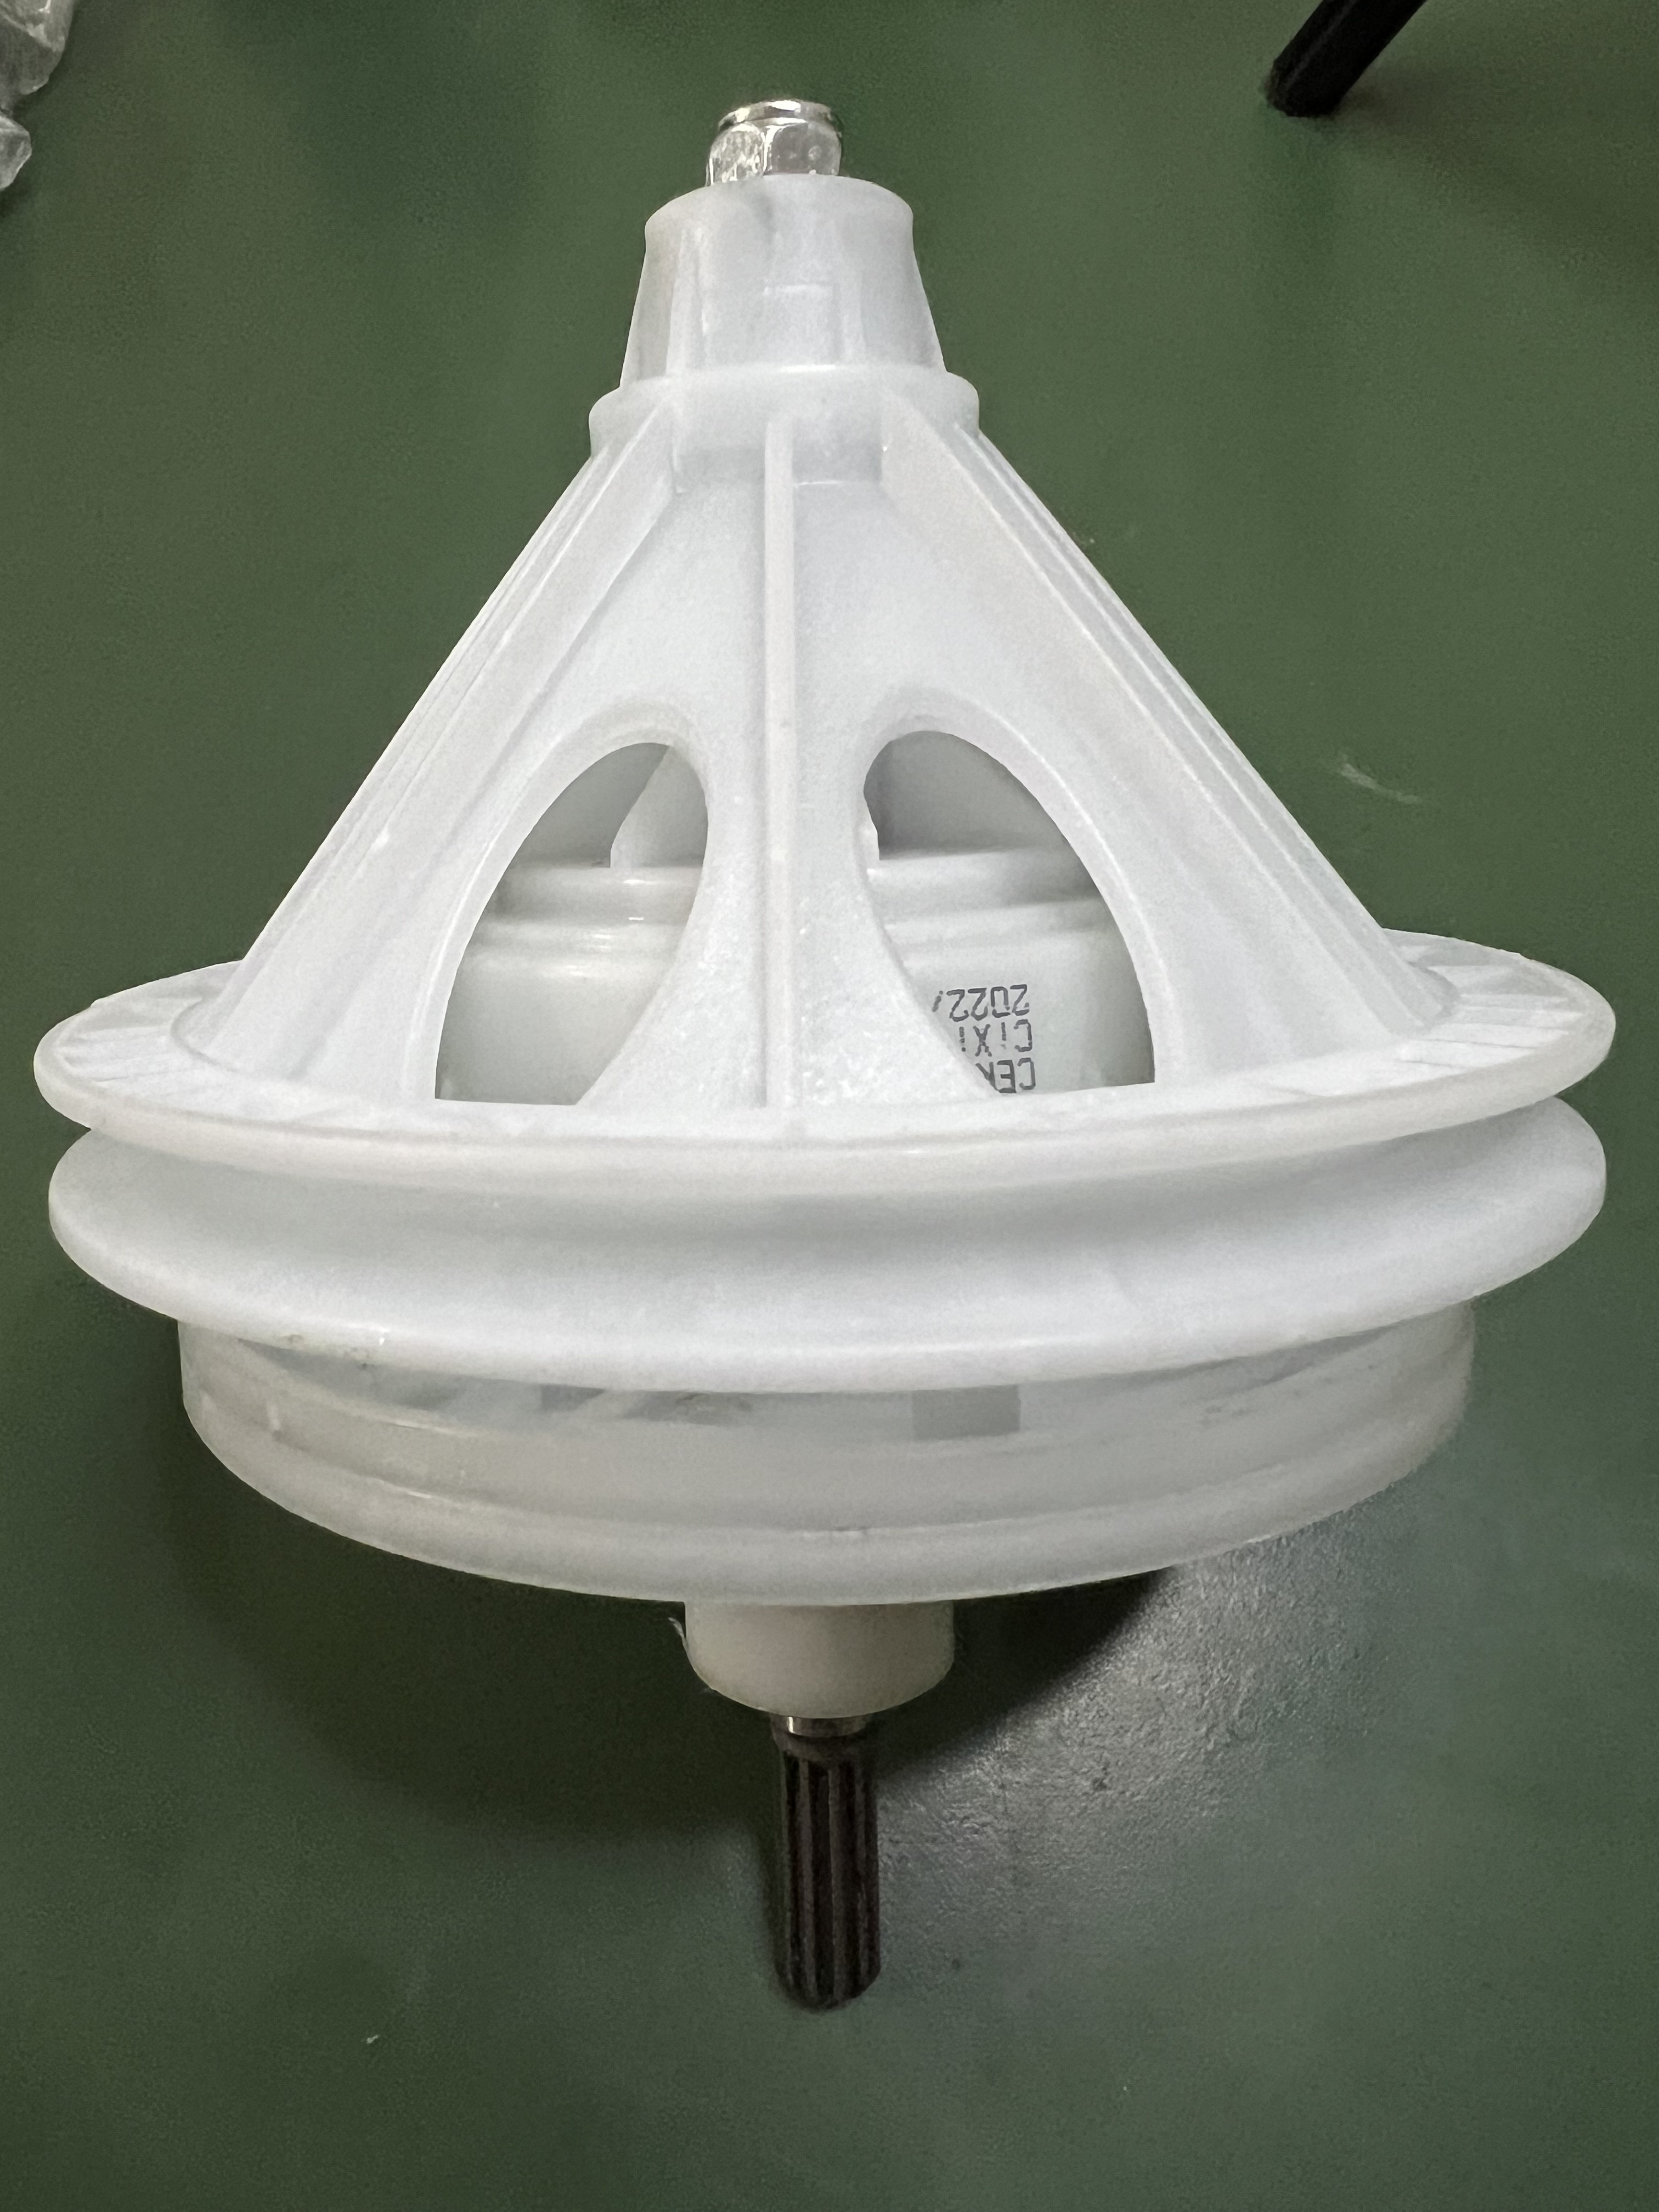gear_box_circle: (24, 106, 1628, 2005)
